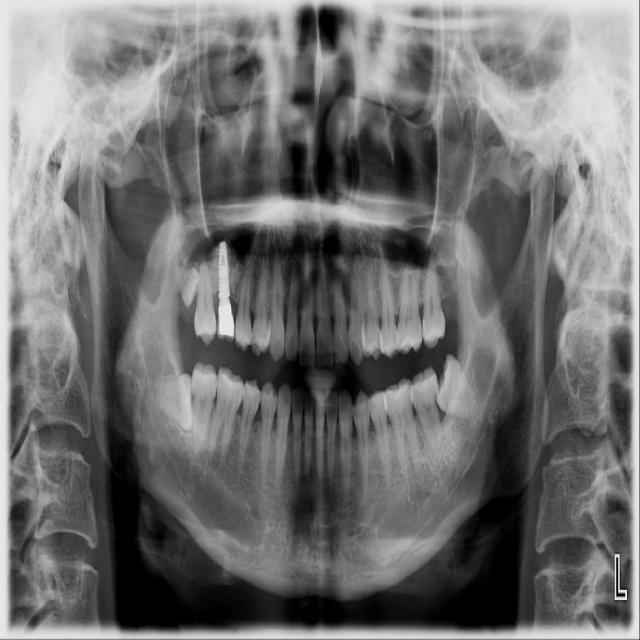Crown: (217, 299, 235, 342)
Implant: (218, 241, 229, 301)
impacted tooth: (435, 354, 484, 418), (166, 223, 201, 306), (144, 372, 193, 431)
